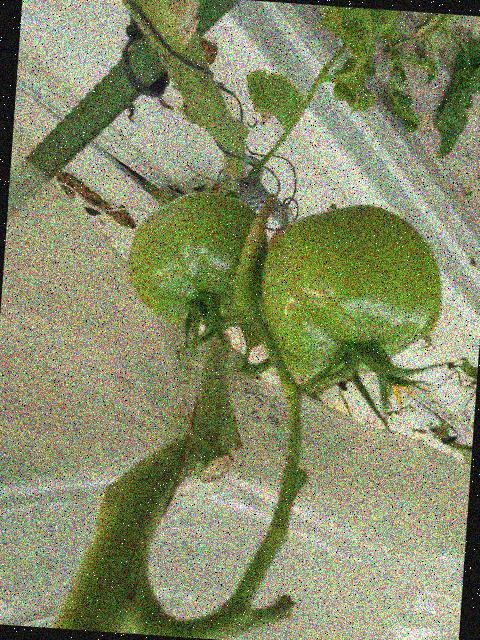b_green: (254, 198, 448, 388), (123, 187, 272, 332)
